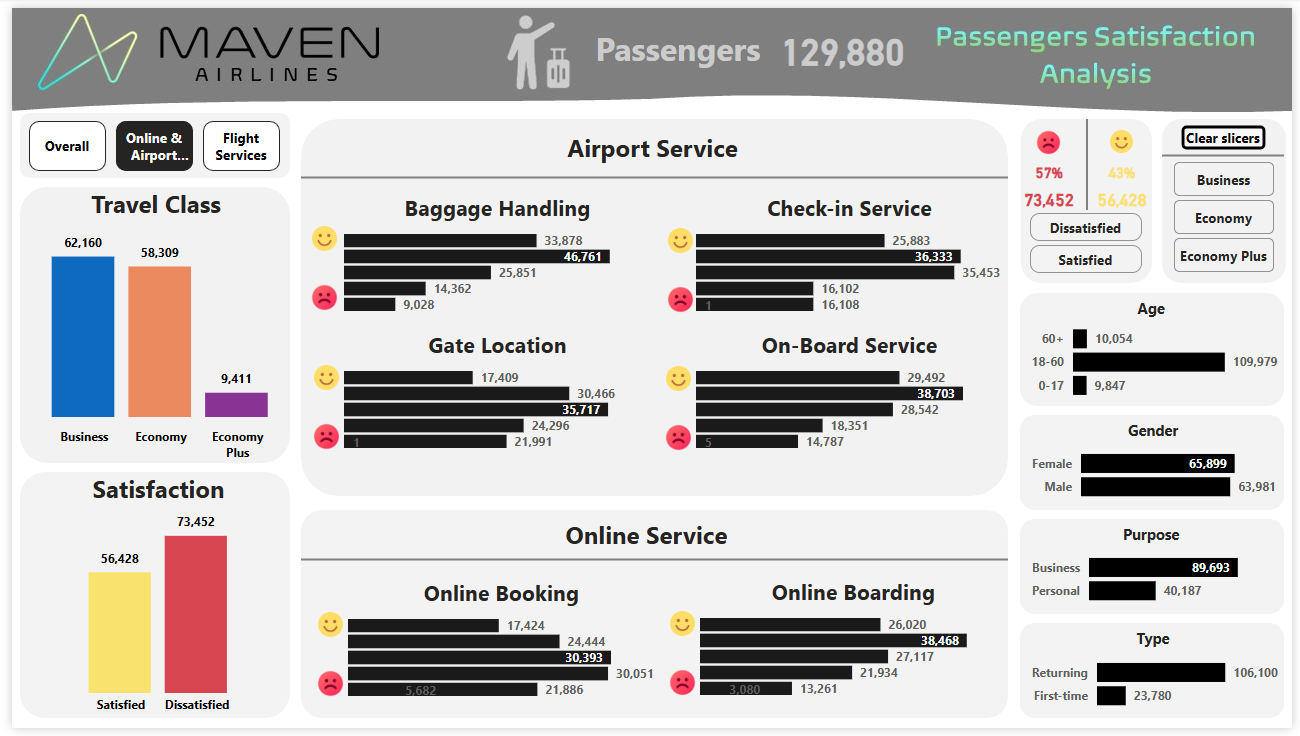

The dashboard page shown, as its layout file describes it:
{"tool":"powerbi","page":{"name":"Online & Airport Services","canvas":[1280,720],"ordinal":1},"visuals":[{"type":"shape","box":[289,502,707,208],"z":0},{"type":"shape","box":[289,111,707,377],"z":1000},{"type":"shape","box":[8,179,270,276],"z":2000},{"type":"columnChart","title":"Travel Class","fields":{"Category":["Data.Class"],"Y":["_Measures.Total Passengers"]},"box":[0,179,289,276],"z":3000},{"type":"textbox","box":[506,118,270,48],"z":4000},{"type":"card","fields":{"Values":["_Measures.Total Passengers"]},"box":[751,12,159,58],"z":5000},{"type":"shape","box":[1008,615,264,95],"z":6000},{"type":"barChart","fields":{"Category":["Data.Customer Type"],"Y":["_Measures.Total Passengers"]},"box":[1017,625,250,95],"z":7000},{"type":"textbox","box":[1103,615,77,36],"z":8000},{"type":"shape","box":[1008,511,264,95],"z":9000},{"type":"shape","box":[1008,407,264,95],"z":10000},{"type":"shape","box":[1008,285,264,113],"z":11000},{"type":"barChart","fields":{"Category":["Data.Age Range"],"Y":["_Measures.Total Passengers"]},"box":[1017,303,250,95],"z":12000},{"type":"textbox","box":[1101,285,77,36],"z":13000},{"type":"barChart","fields":{"Category":["Data.Gender"],"Y":["_Measures.Total Passengers"]},"box":[1017,416,250,95],"z":14000},{"type":"textbox","box":[573,13,187,58],"z":15000},{"type":"textbox","box":[1101,511,77,36],"z":16000},{"type":"barChart","fields":{"Category":["Data.Type of Travel"],"Y":["_Measures.Total Passengers"]},"box":[1017,520,250,95],"z":17000},{"type":"textbox","box":[1104,407,75,36],"z":18000},{"type":"shape","box":[1150,111,124,164],"z":19000},{"type":"advancedSlicerVisual","fields":{"Values":["Data.Class"]},"box":[1159,151,106,119],"z":20000},{"type":"shape","box":[1009,111,131,164],"z":21000},{"type":"advancedSlicerVisual","fields":{"Values":["Data.Satisfaction"]},"box":[1015,202,118,68],"z":22000},{"type":"barChart","title":"Baggage Handling","fields":{"Category":["Data.Baggage Handling"],"Y":["_Measures.Total Passengers"]},"box":[331,184,310,120],"z":23000},{"type":"barChart","title":"Check-in Service","fields":{"Category":["Data.Check-in Service"],"Y":["_Measures.Total Passengers"]},"box":[683,184,310,120],"z":24000},{"type":"image","box":[656,220,25,25],"z":25000},{"type":"image","box":[655,278,28,27],"z":26000},{"type":"card","fields":{"Values":["_Measures.Satisfied"]},"box":[1065,178,90,30],"z":27000},{"type":"card","fields":{"Values":["_Measures.% Dissatisfied"]},"box":[997,151,80,30],"z":28000},{"type":"card","fields":{"Values":["_Measures.Dissatisfied"]},"box":[992,178,90,30],"z":29000},{"type":"card","fields":{"Values":["_Measures.% Satisfied"]},"box":[1070,151,80,30],"z":30000},{"type":"image","box":[1024,122,25,25],"z":31000},{"type":"image","box":[1098,122,23,23],"z":32000},{"type":"barChart","title":"Online Boarding","fields":{"Y":["_Measures.Total Passengers"],"Category":["Data.Online Boarding"]},"box":[687,568,310,120],"z":33000},{"type":"barChart","title":"Gate Location","fields":{"Category":["Data.Gate Location"],"Y":["_Measures.Total Passengers"]},"box":[331,321,310,120],"z":34000},{"type":"barChart","title":"Online Booking","fields":{"Y":["_Measures.Total Passengers"],"Category":["Data.Online Booking"]},"box":[335,569,310,120],"z":35000},{"type":"barChart","title":"On-Board Service","fields":{"Y":["_Measures.Total Passengers"],"Category":["Data.On-board Service"]},"box":[683,321,310,120],"z":36000},{"type":"textbox","box":[500,505,270,48],"z":37000},{"type":"shape","box":[1047,111,56,91],"z":38000},{"type":"image","box":[654,358,25,25],"z":39000},{"type":"image","box":[653,416,28,27],"z":40000},{"type":"image","box":[658,603,25,25],"z":41000},{"type":"image","box":[657,661,28,27],"z":42000},{"type":"image","box":[306,604,25,25],"z":43000},{"type":"image","box":[305,662,28,27],"z":44000},{"type":"image","box":[302,357,25,25],"z":45000},{"type":"image","box":[301,415,28,27],"z":46000},{"type":"image","box":[300,218,25,25],"z":47000},{"type":"image","box":[299,276,28,27],"z":48000},{"type":"shape","box":[8,464,270,246],"z":49000},{"type":"columnChart","title":"Satisfaction","fields":{"Category":["Data.Satisfaction"],"Y":["_Measures.Total Passengers"]},"box":[8,464,278,246],"z":50000},{"type":"actionButton","box":[1164,112,95,35],"z":50001},{"type":"shape","box":[1150,136,122,23],"z":50002},{"type":"shape","box":[289,158,707,23],"z":50003},{"type":"shape","box":[289,540,707,23],"z":50004},{"type":"shape","box":[8,105,270,65],"z":50005},{"type":"pageNavigator","box":[17,113,252,50],"z":50006}]}

Visuals, with their boxes in screenshot pixels (x1, y1, x2, y2), scaled from the page's 1280x720 canvas onto the 1300x736 screenshot:
shape: locate(294, 513, 1012, 726)
shape: locate(294, 113, 1012, 499)
shape: locate(8, 183, 282, 465)
"Travel Class" columnChart: locate(0, 183, 294, 465)
textbox: locate(514, 121, 788, 170)
card - _Measures.Total Passengers: locate(763, 12, 924, 72)
shape: locate(1024, 629, 1292, 726)
barChart - Data.Customer Type x _Measures.Total Passengers: locate(1033, 639, 1287, 735)
textbox: locate(1120, 629, 1198, 665)
shape: locate(1024, 522, 1292, 619)
shape: locate(1024, 416, 1292, 513)
shape: locate(1024, 291, 1292, 407)
barChart - Data.Age Range x _Measures.Total Passengers: locate(1033, 310, 1287, 407)
textbox: locate(1118, 291, 1196, 328)
barChart - Data.Gender x _Measures.Total Passengers: locate(1033, 425, 1287, 522)
textbox: locate(582, 13, 772, 73)
textbox: locate(1118, 522, 1196, 559)
barChart - Data.Type of Travel x _Measures.Total Passengers: locate(1033, 532, 1287, 629)
textbox: locate(1121, 416, 1197, 453)
shape: locate(1168, 113, 1294, 281)
advancedSlicerVisual - Data.Class: locate(1177, 154, 1285, 276)
shape: locate(1025, 113, 1158, 281)
advancedSlicerVisual - Data.Satisfaction: locate(1031, 206, 1151, 276)
"Baggage Handling" barChart: locate(336, 188, 651, 311)
"Check-in Service" barChart: locate(694, 188, 1009, 311)
image: locate(666, 225, 692, 250)
image: locate(665, 284, 694, 312)
card - _Measures.Satisfied: locate(1082, 182, 1173, 213)
card - _Measures.% Dissatisfied: locate(1013, 154, 1094, 185)
card - _Measures.Dissatisfied: locate(1008, 182, 1099, 213)
card - _Measures.% Satisfied: locate(1087, 154, 1168, 185)
image: locate(1040, 125, 1065, 150)
image: locate(1115, 125, 1139, 148)
"Online Boarding" barChart: locate(698, 581, 1013, 703)
"Gate Location" barChart: locate(336, 328, 651, 451)
"Online Booking" barChart: locate(340, 582, 655, 704)
"On-Board Service" barChart: locate(694, 328, 1009, 451)
textbox: locate(508, 516, 782, 565)
shape: locate(1063, 113, 1120, 206)
image: locate(664, 366, 690, 392)
image: locate(663, 425, 692, 453)
image: locate(668, 616, 694, 642)
image: locate(667, 676, 696, 703)
image: locate(311, 617, 336, 643)
image: locate(310, 677, 338, 704)
image: locate(307, 365, 332, 390)
image: locate(306, 424, 334, 452)
image: locate(305, 223, 330, 248)
image: locate(304, 282, 332, 310)
shape: locate(8, 474, 282, 726)
"Satisfaction" columnChart: locate(8, 474, 290, 726)
actionButton: locate(1182, 114, 1279, 150)
shape: locate(1168, 139, 1292, 163)
shape: locate(294, 162, 1012, 185)
shape: locate(294, 552, 1012, 576)
shape: locate(8, 107, 282, 174)
pageNavigator: locate(17, 116, 273, 167)
